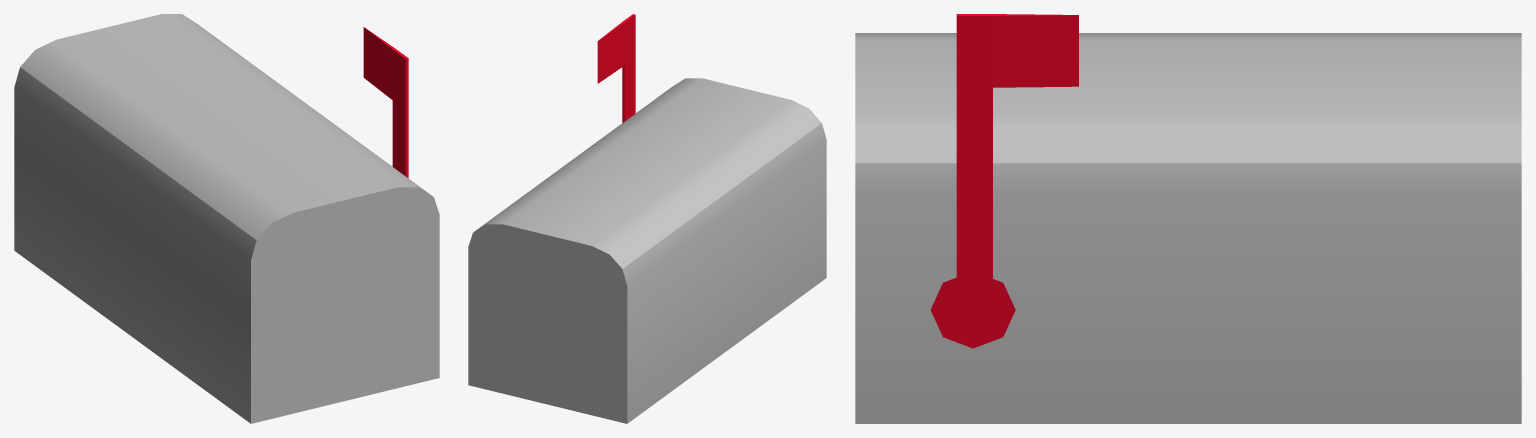
Rendered from mailbox_05.fbx.
3 renders of one model, left to right at view 1: azimuth 30°, elevation 25°; view 2: azimuth 150°, elevation 25°; view 3: azimuth 270°, elevation 25°, orthographic. The views are drawn at different scales.
Parts seen in each view (by area): view 1: mailbox_05; view 2: mailbox_05; view 3: mailbox_05.
Part boxes in pixels (bbox=[...]): mailbox_05: bbox=[14, 14, 439, 423]; mailbox_05: bbox=[468, 14, 826, 423]; mailbox_05: bbox=[855, 14, 1521, 423].
Bounding box in the file's own units: 0.2799 × 0.4035 × 0.5924.
